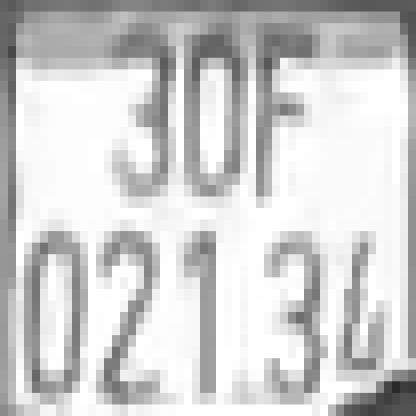0: (24, 231, 88, 393), (184, 35, 240, 197)
1: (176, 219, 224, 393)
2: (104, 219, 160, 393)
3: (104, 23, 176, 208), (248, 219, 312, 393)
F: (248, 35, 304, 197)
